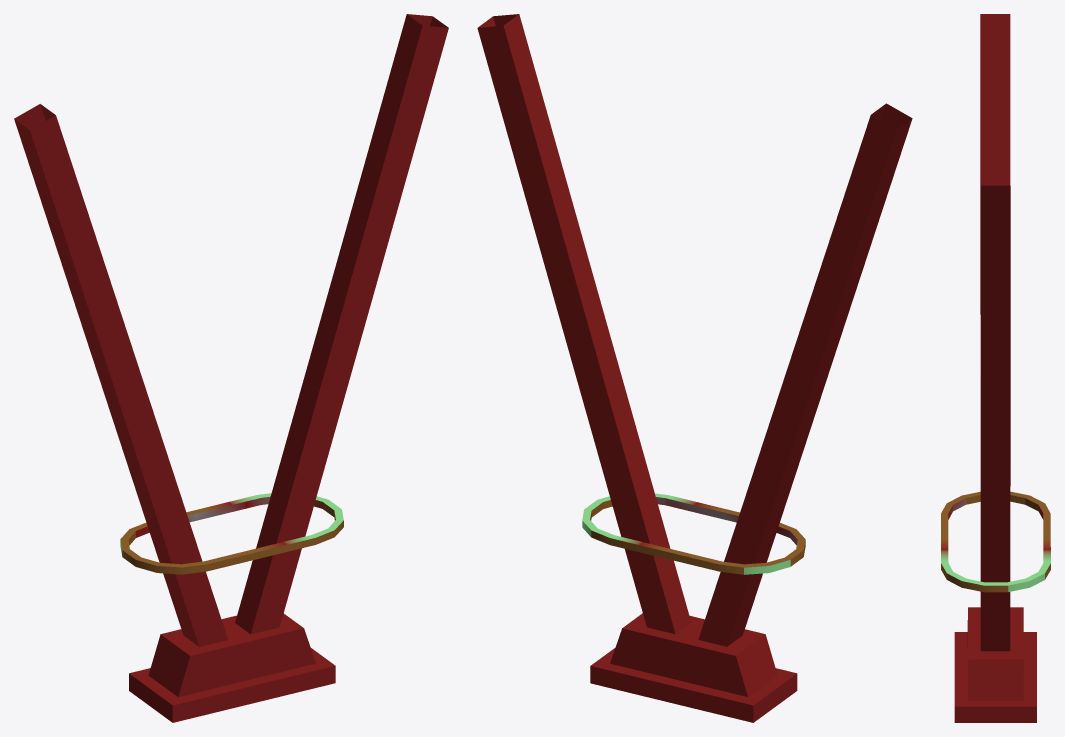
File: SM_Collons_v02.fbx
The picture shows the model from 3 angles, left to right: view 1: azimuth 30°, elevation 25°; view 2: azimuth 150°, elevation 25°; view 3: azimuth 270°, elevation 25°; orthographic projection. The views are drawn at different scales.
Visible parts, largest first — view 1: Platform_Collons_v02; view 2: Platform_Collons_v02; view 3: Platform_Collons_v02.
Boxes of the visible parts, <box> form: Platform_Collons_v02: <box>14,14,448,722</box>; Platform_Collons_v02: <box>477,14,912,722</box>; Platform_Collons_v02: <box>941,14,1050,722</box>.
Bounding box in the file's own units: 2.84 × 4.03 × 0.6882.
1 material, 1 textured.
